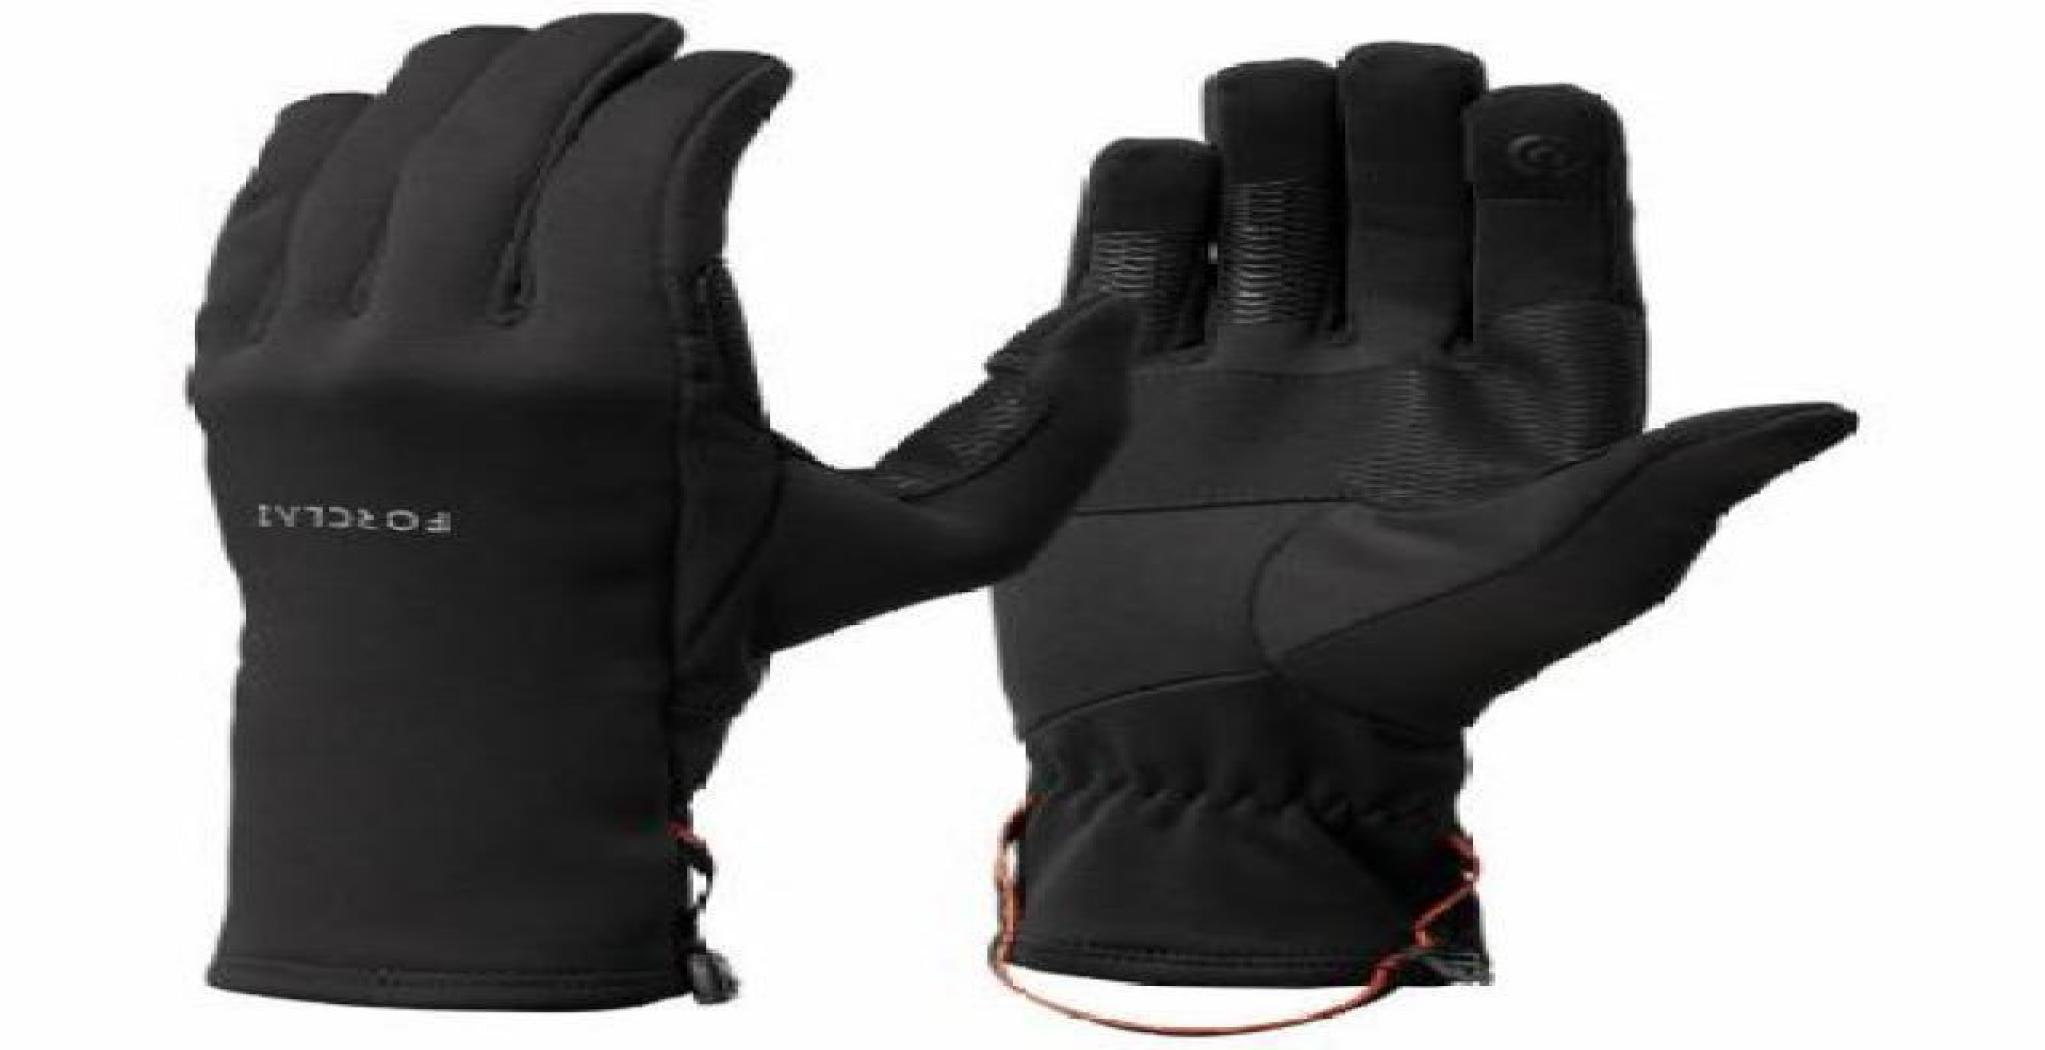gloved: (975, 37, 1859, 1029)
